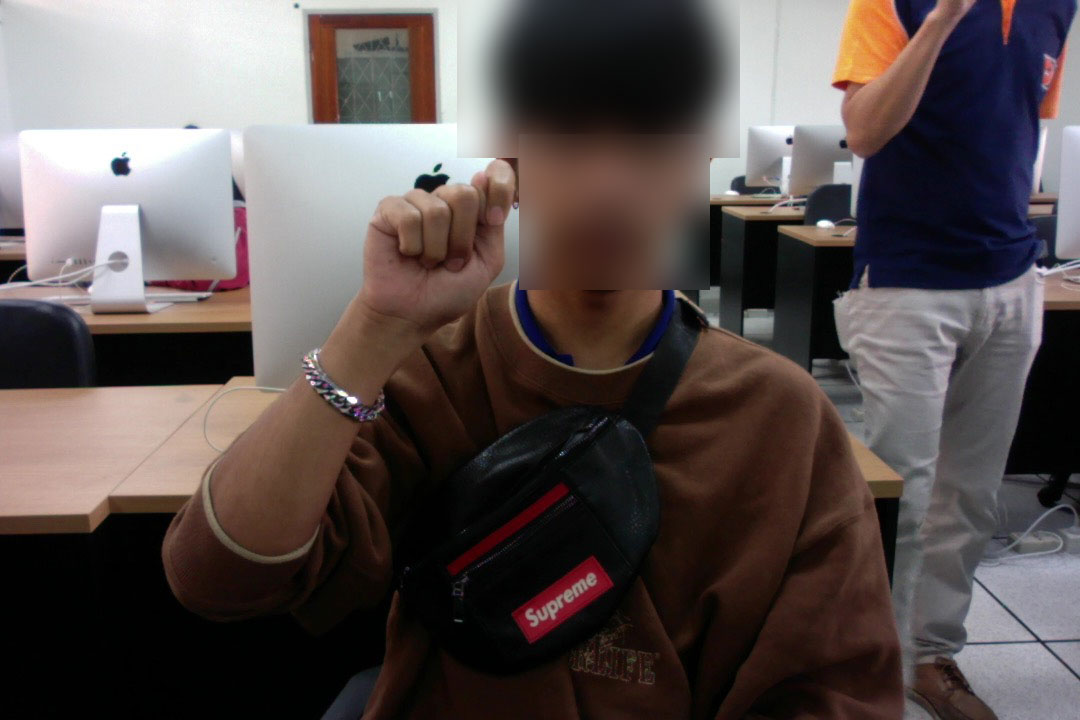tor: (352, 160, 520, 334)
